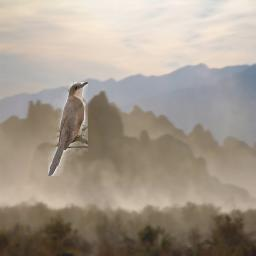Cuckoo: (48, 82, 88, 176)
